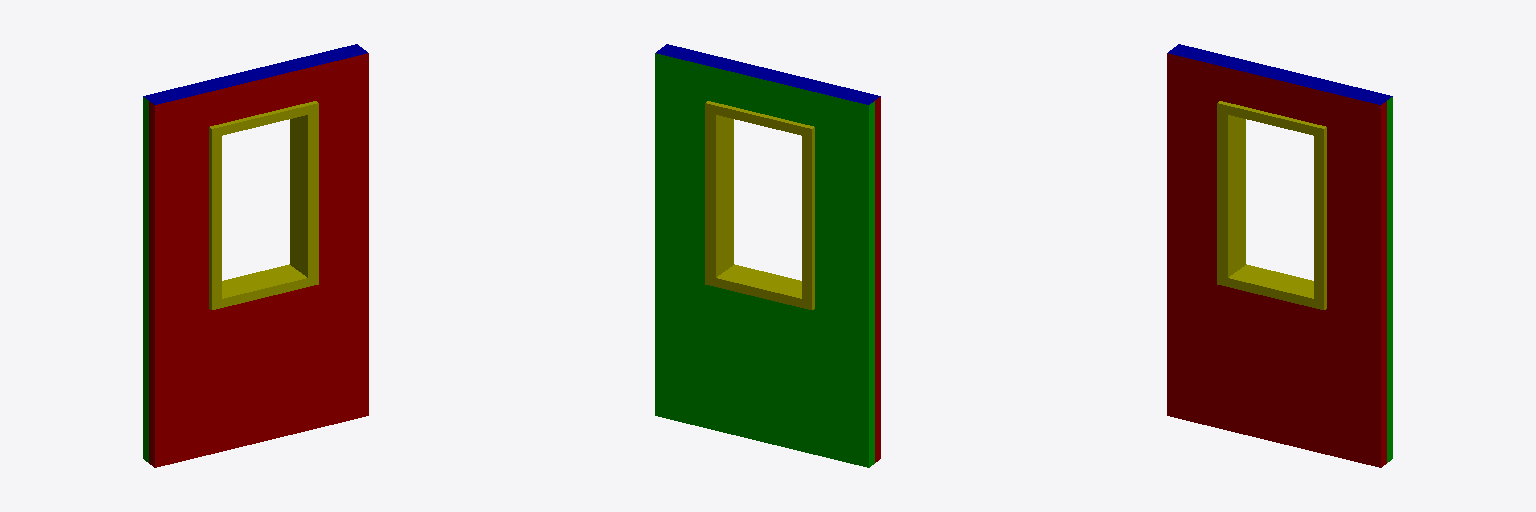
Rendered from wall_with_small_window.obj.
The picture shows the model from 3 angles: view 1: azimuth 30°, elevation 25°; view 2: azimuth 150°, elevation 25°; view 3: azimuth 330°, elevation 25°; orthographic projection.
Bounding box in the file's own units: 2 × 3.24 × 0.3.